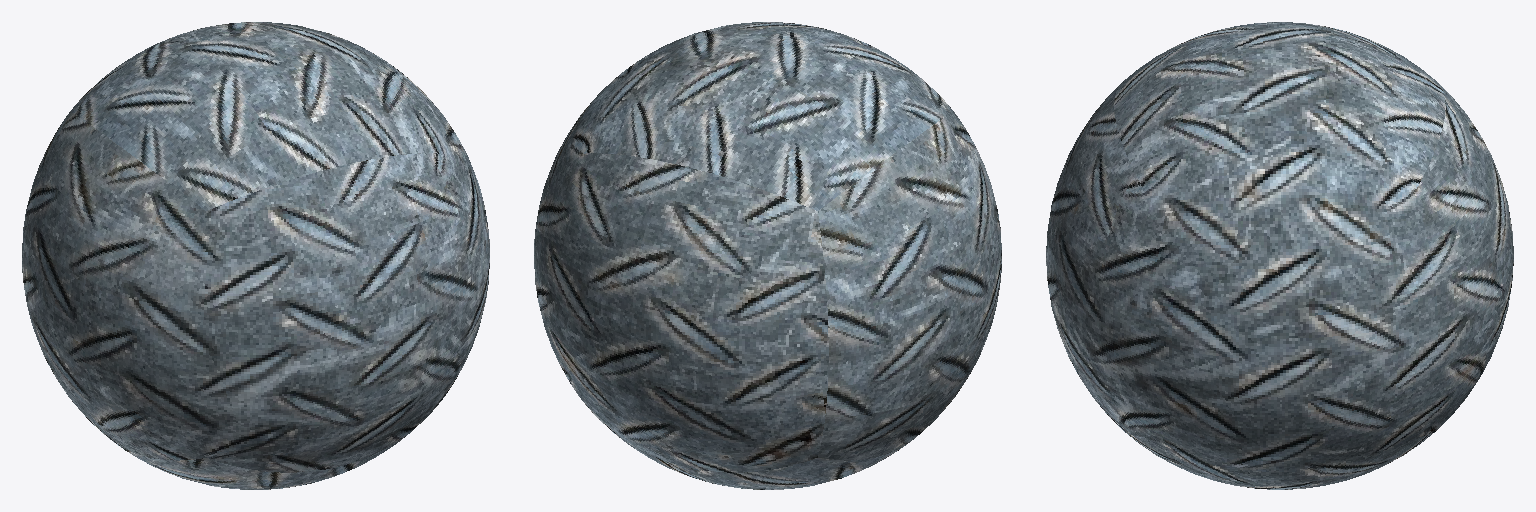
3 renders of one model, left to right at view 1: azimuth 30°, elevation 25°; view 2: azimuth 150°, elevation 25°; view 3: azimuth 270°, elevation 25°, orthographic.
Parts seen in each view (by area): view 1: wooden_sphere; view 2: wooden_sphere; view 3: wooden_sphere.
Boxes of the visible parts, <box> form: wooden_sphere: <box>22,22,489,489</box>; wooden_sphere: <box>534,22,1001,489</box>; wooden_sphere: <box>1046,22,1513,489</box>.
Size of the model in its own units: 6.97 by 6.97 by 6.97.
1 materials, 1 textured.